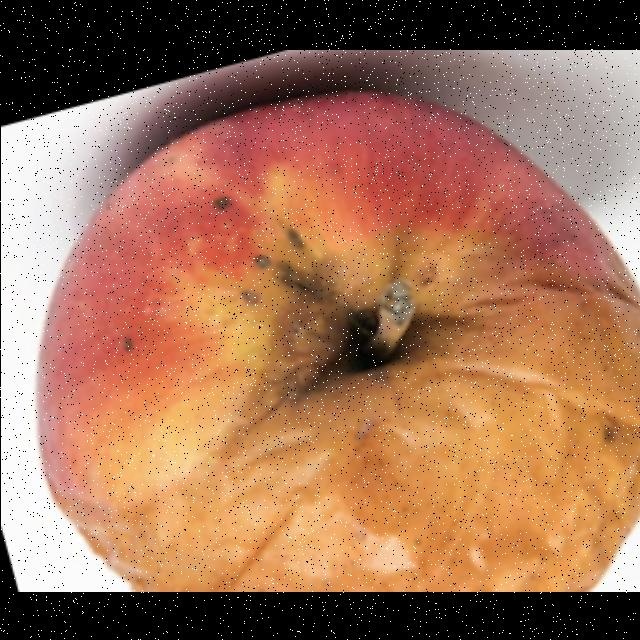Apel Tidak Segar: (31, 79, 640, 591)
